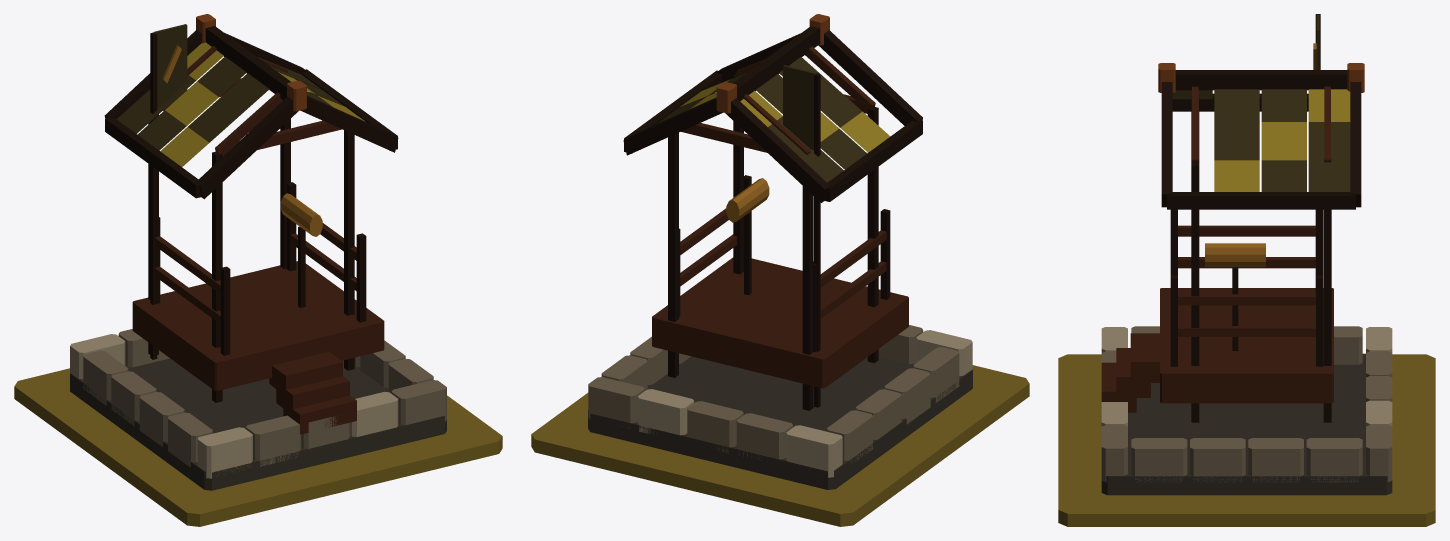
The model's file is scout_post_t1.glb.
3 views of the same model, side by side, from view 1: azimuth 30°, elevation 25°; view 2: azimuth 150°, elevation 25°; view 3: azimuth 270°, elevation 25° (orthographic). The views are drawn at different scales.
Visible parts, largest first — view 1: MMR | scout_post | T01 Architecture.001, MMR | scout_post | Tier 01 Ground.001; view 2: MMR | scout_post | T01 Architecture.001, MMR | scout_post | Tier 01 Ground.001; view 3: MMR | scout_post | T01 Architecture.001, MMR | scout_post | Tier 01 Ground.001.
Part boxes in pixels (<box>): MMR | scout_post | T01 Architecture.001: <box>70,14,446,490</box>; MMR | scout_post | Tier 01 Ground.001: <box>14,368,502,526</box>; MMR | scout_post | T01 Architecture.001: <box>588,14,972,489</box>; MMR | scout_post | Tier 01 Ground.001: <box>531,365,1029,526</box>; MMR | scout_post | T01 Architecture.001: <box>1101,14,1392,495</box>; MMR | scout_post | Tier 01 Ground.001: <box>1058,354,1435,526</box>.
Size of the model in its own units: 1.3 by 1.51 by 1.3.
1 material, 1 textured.
